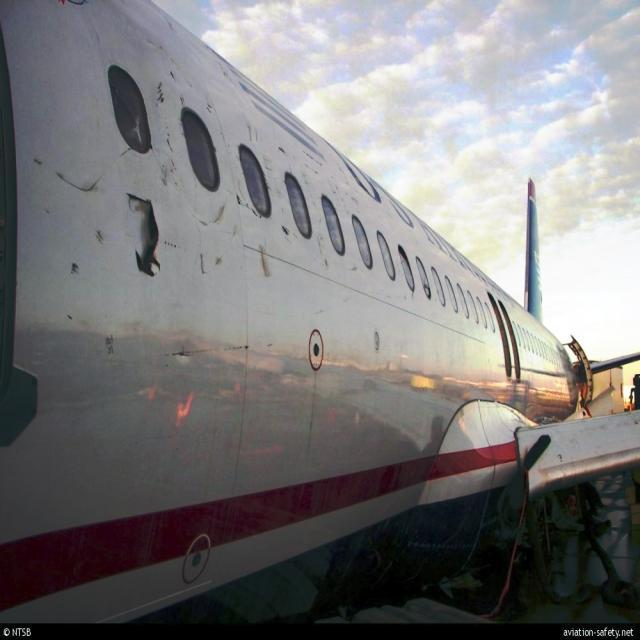crack: (128, 190, 164, 284)
